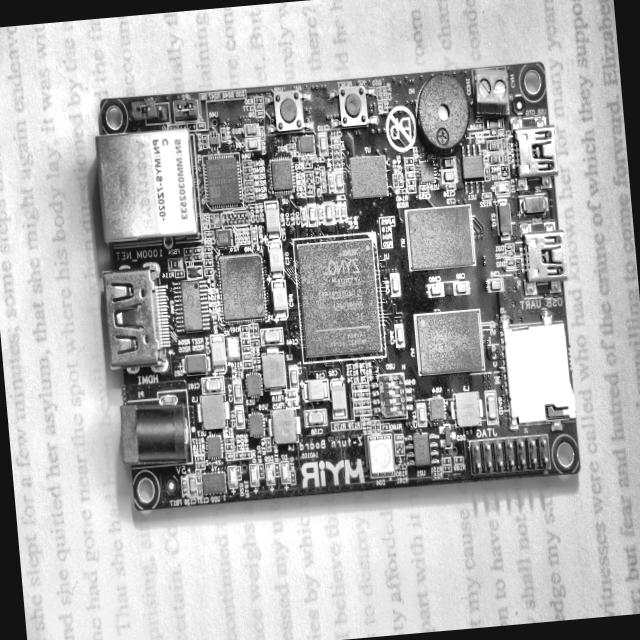PCB: (86, 59, 582, 524)
